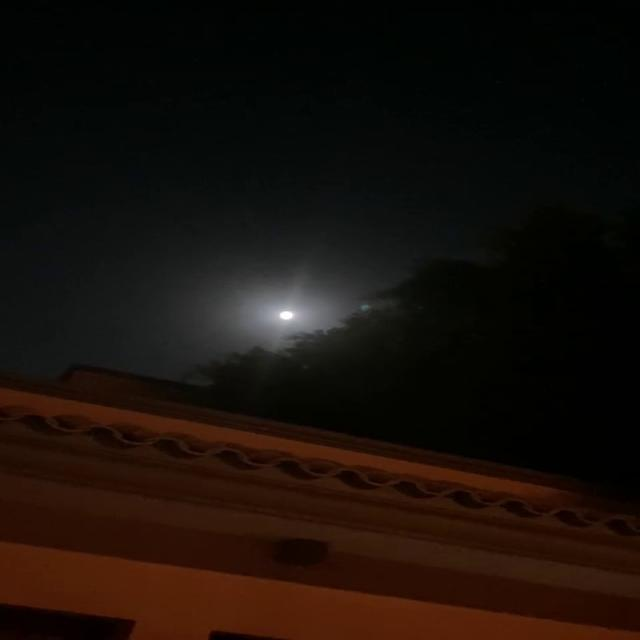moon: (254, 300, 294, 323)
